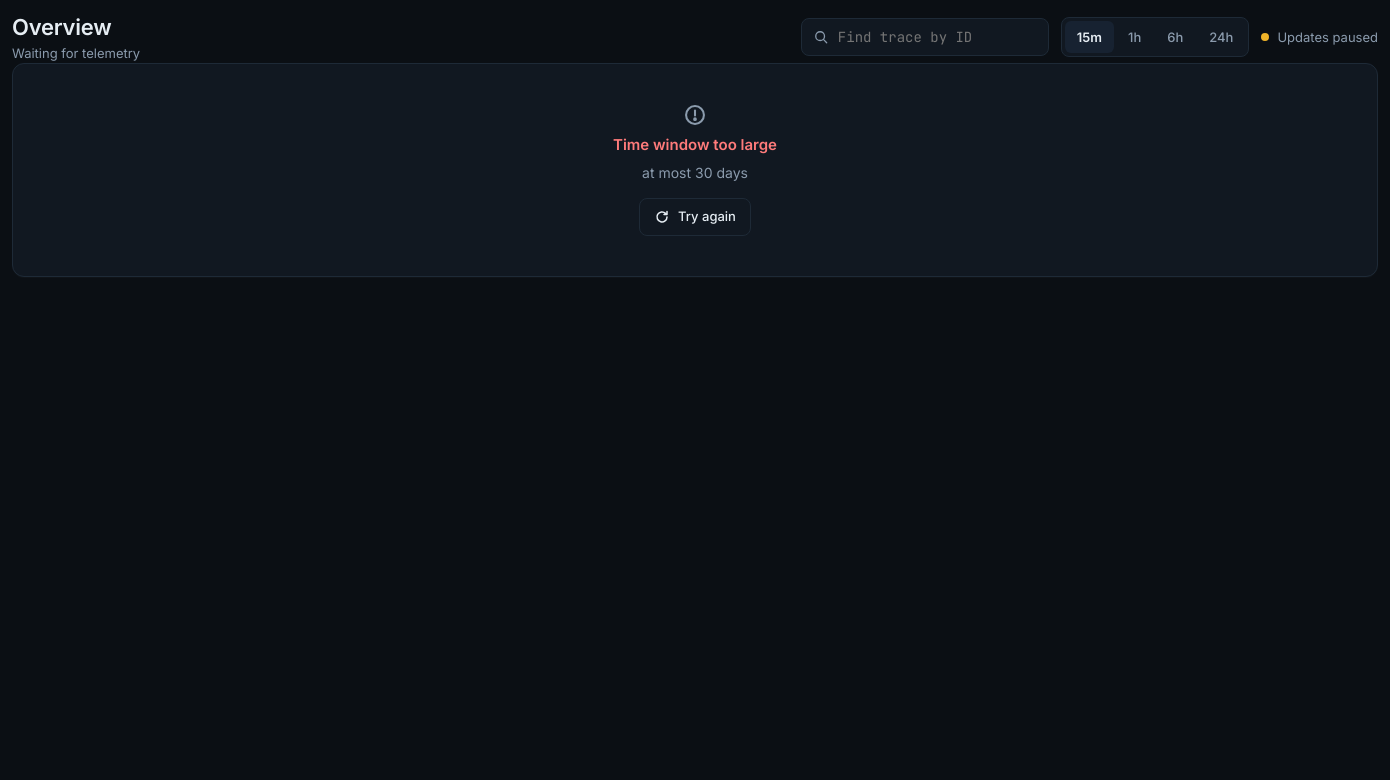
overview › shows the server's explanation and retries on request
Expected: the message shows "Time window too large", [613,135,777,154]
Click the button "Try again".
click(695, 217)  # box [639,198,751,236]
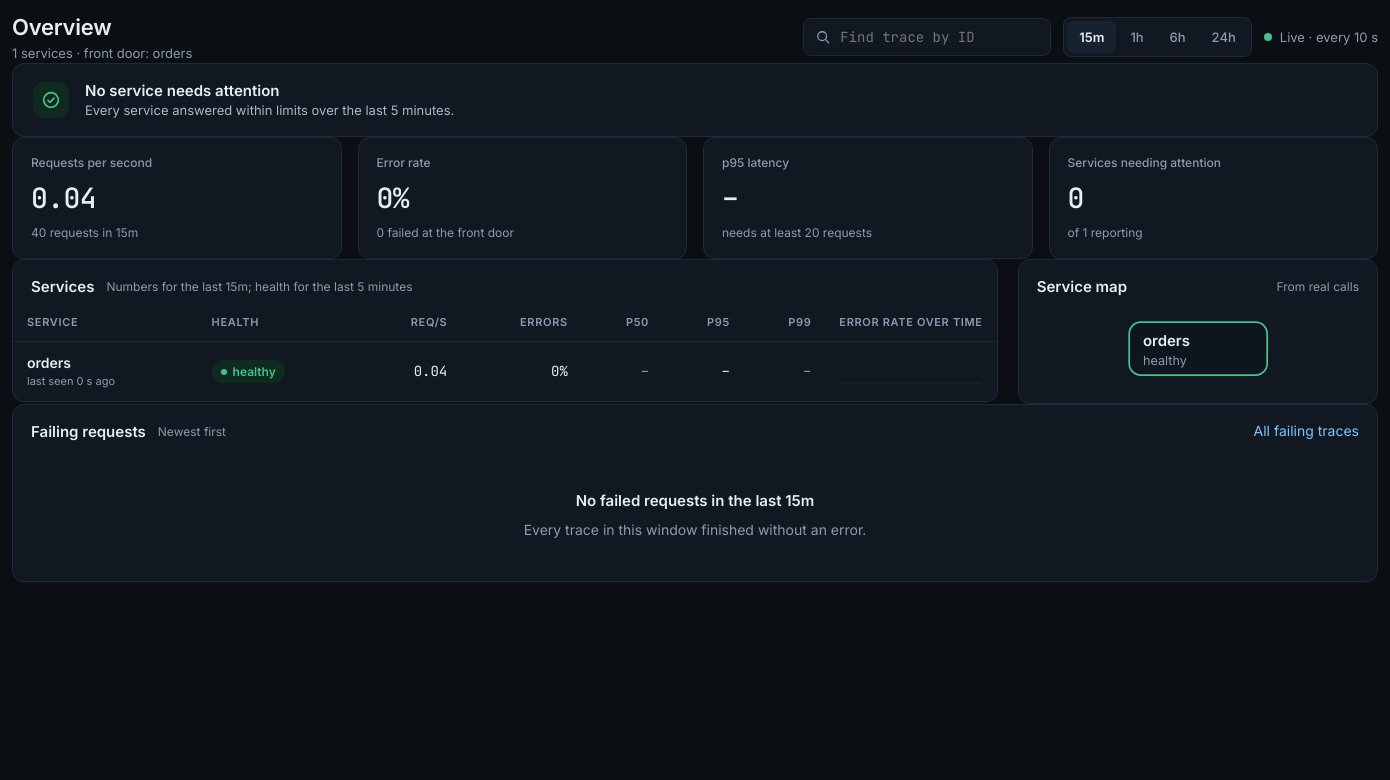
Now the text "No service needs attention" is shown, box [85,81,280,100]
